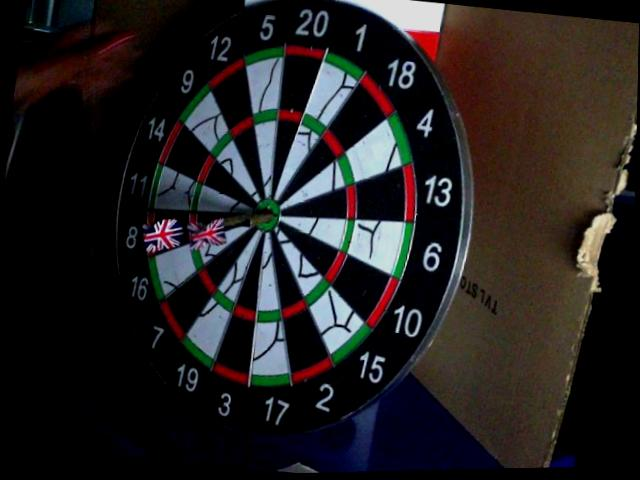bullseye: (255, 200, 279, 231)
